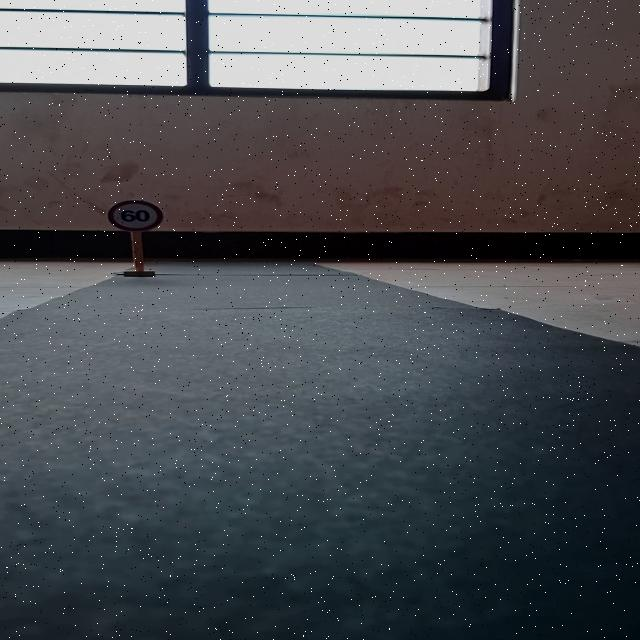Speed60: (107, 199, 163, 233)
